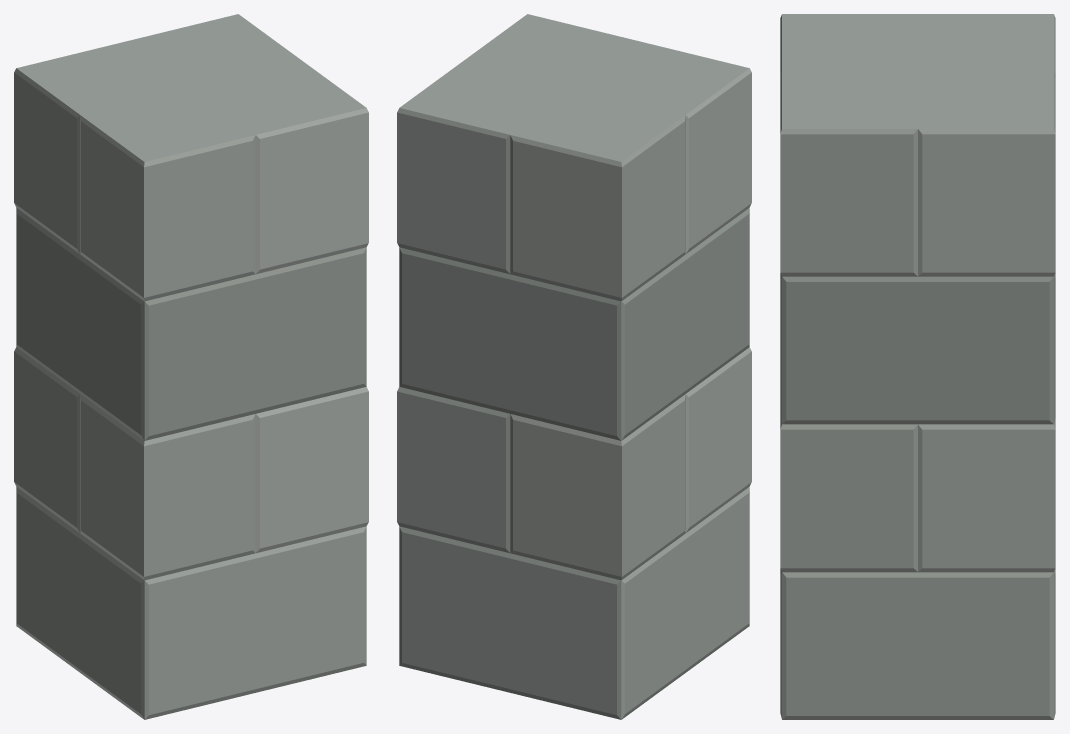
Rendered from Pillar_02.glb.
3 views of the same model, side by side, from view 1: azimuth 30°, elevation 25°; view 2: azimuth 150°, elevation 25°; view 3: azimuth 270°, elevation 25° (orthographic). The views are drawn at different scales.
Visible parts, largest first — view 1: SM_Env_Pillar_02; view 2: SM_Env_Pillar_02; view 3: SM_Env_Pillar_02.
Part boxes in pixels (x1,y1,x2,y2): SM_Env_Pillar_02: [14, 14, 368, 719]; SM_Env_Pillar_02: [397, 14, 751, 719]; SM_Env_Pillar_02: [780, 14, 1055, 719].
Size of the model in its own units: 1.27 by 3 by 1.27.
Materials: 1 (1 with a texture image).
